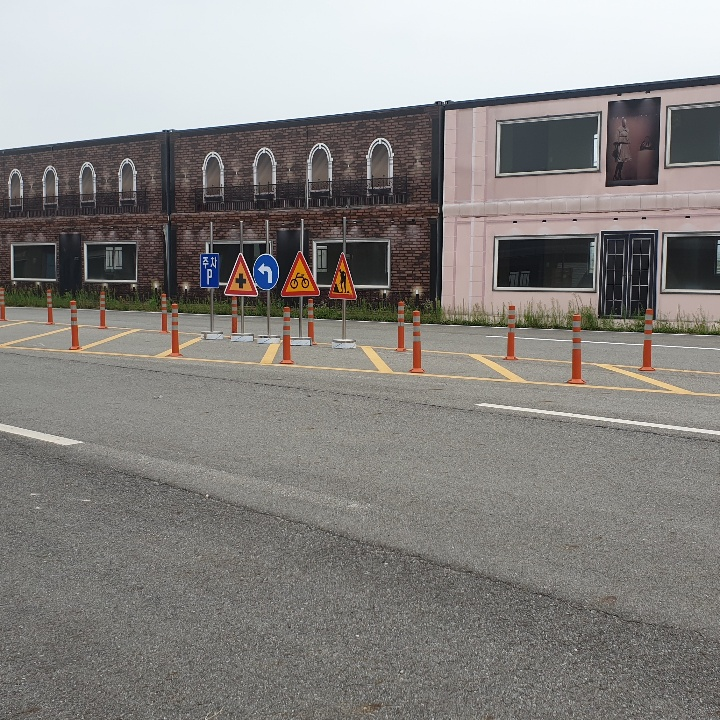bicycle: (282, 252, 317, 297)
const: (327, 262, 353, 296)
inter: (229, 269, 248, 289)
left: (254, 261, 275, 284)
parking: (201, 264, 214, 287)
